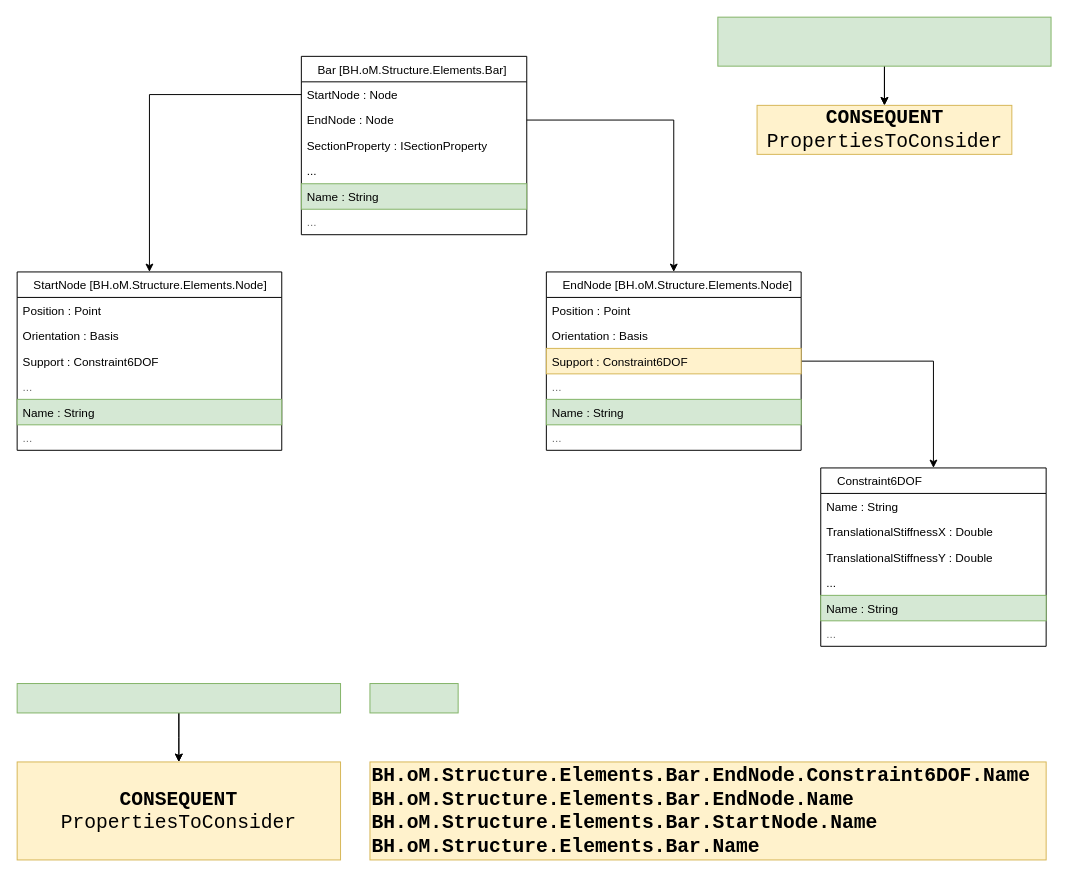
Image size: 1068x877. Some labels were removed from this diagram. The centre of each missing label's shape, as x and y in pixels:
*.Name: (413,698)
INPUT PropertiesToConsider: (178,698)
INPUT PropertiesToConsider: *.Name: (884,41)
